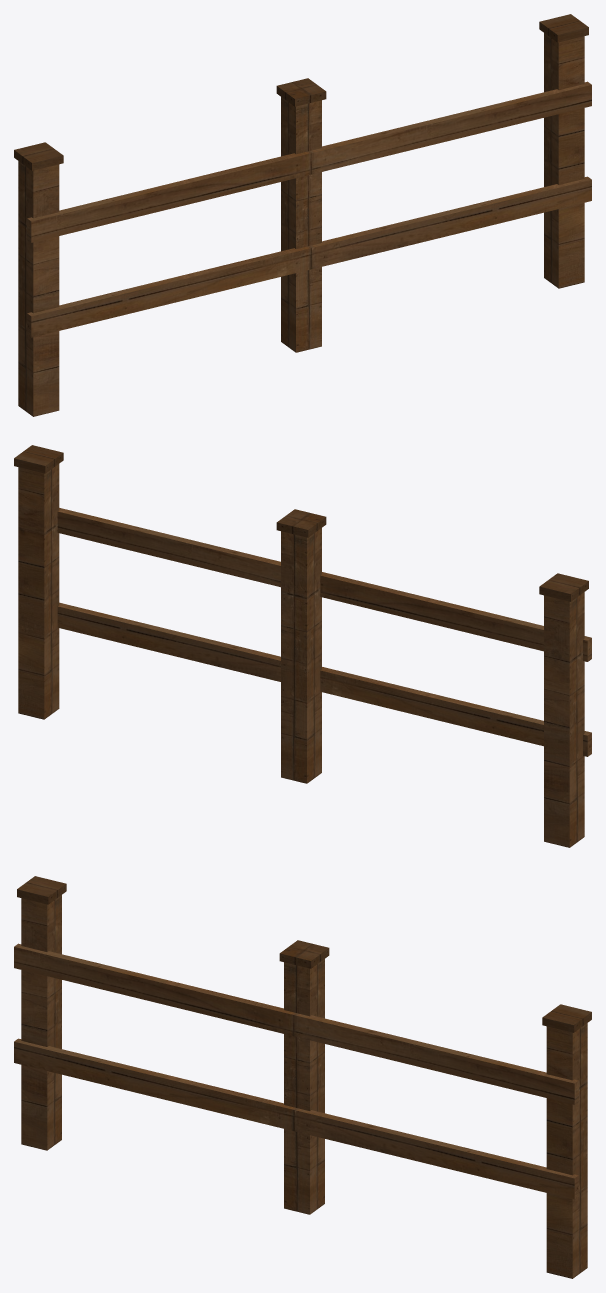
The model's file is wood_fence.glb.
The picture shows the model from 3 angles, top to bottom: view 1: azimuth 30°, elevation 25°; view 2: azimuth 150°, elevation 25°; view 3: azimuth 330°, elevation 25°; orthographic projection.
Parts seen in each view (by area): view 1: WoodFence; view 2: WoodFence; view 3: WoodFence.
Part boxes in pixels (x1=…): WoodFence: x1=14, y1=14, x2=591, y2=416; WoodFence: x1=14, y1=445, x2=591, y2=847; WoodFence: x1=14, y1=876, x2=591, y2=1278.
Bounding box in the file's own units: 3.03 × 1.32 × 0.18.
2 materials, 2 textured.
